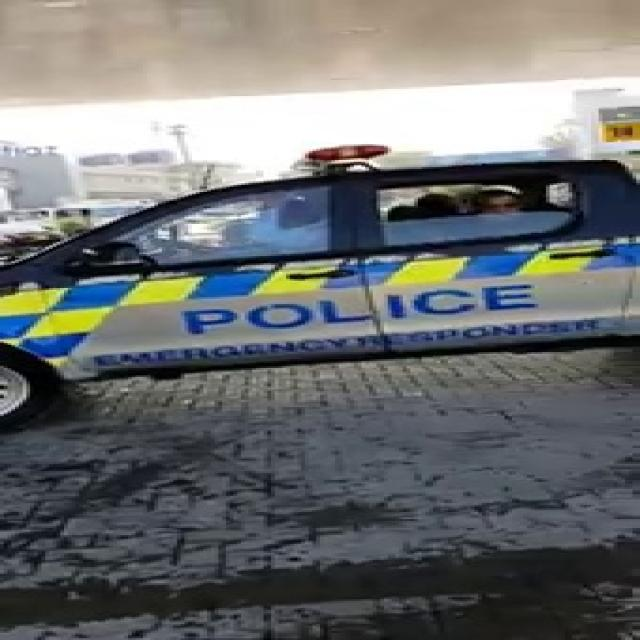police: (15, 112, 640, 382)
